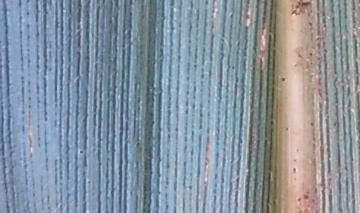tarspot: (290, 9, 301, 18), (302, 192, 310, 201), (301, 1, 312, 7), (185, 184, 193, 192), (291, 165, 297, 175), (308, 120, 315, 128), (24, 9, 31, 17), (293, 4, 300, 11), (134, 141, 140, 149), (332, 120, 338, 128), (280, 76, 286, 83), (78, 149, 85, 155), (296, 196, 302, 203), (230, 64, 236, 71), (308, 51, 314, 58), (322, 47, 329, 53), (86, 179, 92, 186), (185, 74, 191, 81), (306, 21, 313, 27), (284, 125, 289, 133), (128, 1, 134, 7), (295, 1, 302, 6), (25, 1, 30, 4)
